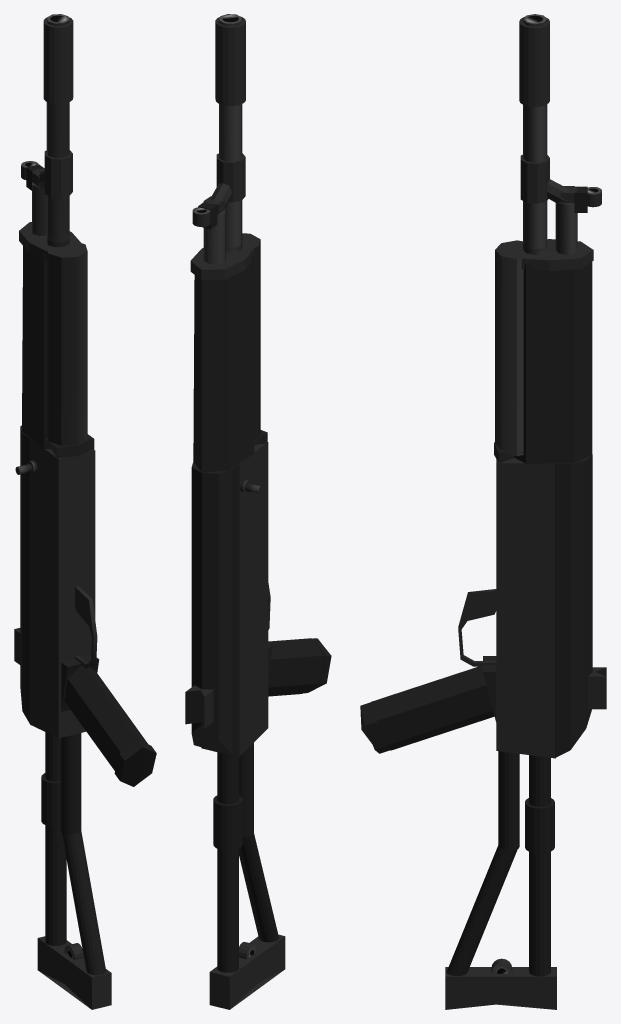
File: RK95_NoMagazine.fbx
The picture shows the model from 3 angles, left to right: view 1: azimuth 30°, elevation 25°; view 2: azimuth 150°, elevation 25°; view 3: azimuth 270°, elevation 25°; orthographic projection. The views are drawn at different scales.
Visible parts, largest first — view 1: node_01ad04d0_9ae3_4723_a41a_f70a8fdbbab7_mesh0; view 2: node_01ad04d0_9ae3_4723_a41a_f70a8fdbbab7_mesh0; view 3: node_01ad04d0_9ae3_4723_a41a_f70a8fdbbab7_mesh0.
Boxes of the visible parts, x1,y1,x2,y2 form: node_01ad04d0_9ae3_4723_a41a_f70a8fdbbab7_mesh0: (14,14,156,1009); node_01ad04d0_9ae3_4723_a41a_f70a8fdbbab7_mesh0: (185,14,331,1009); node_01ad04d0_9ae3_4723_a41a_f70a8fdbbab7_mesh0: (360,14,606,1009).
Size of the model in its own units: 0.0301 by 0.492 by 0.1114.
